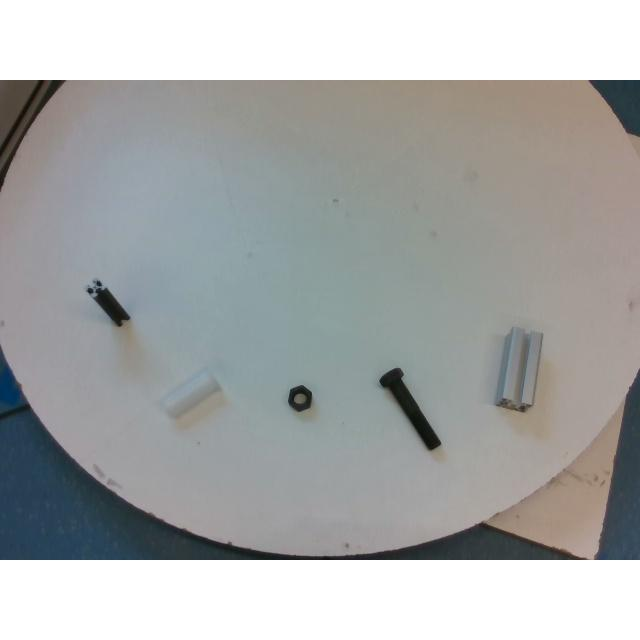F20_20_B: (86, 278, 130, 326)
M20: (288, 385, 312, 411)
M20_100: (380, 368, 440, 448)
S40_40_G: (494, 326, 542, 409)
Spacer: (160, 370, 220, 416)
